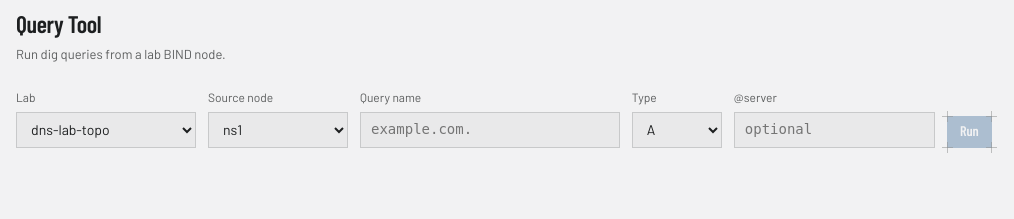
QueryTool › shows a 422 error inline
This screenshot has width=1014, height=219.
Expected: the dropdown showing "ns1" is shown, [208,112,348,148]
Type "not a name" into the field labelled "Query name" at (490, 130), box [360,112,620,148]
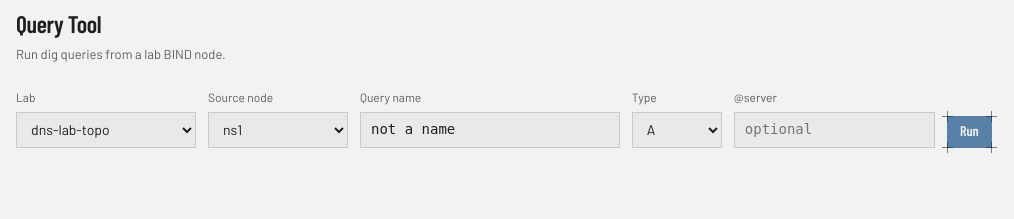
Click the button "Run" at (969, 132), box [947,116,992,148]
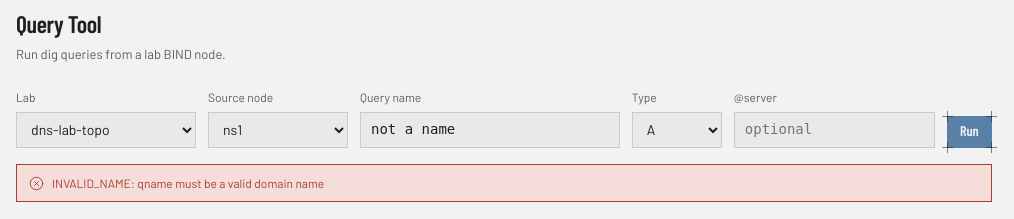
Expected: the text "INVALID_NAME: qname must be a valid domain name" is shown, [52,176,324,190]
